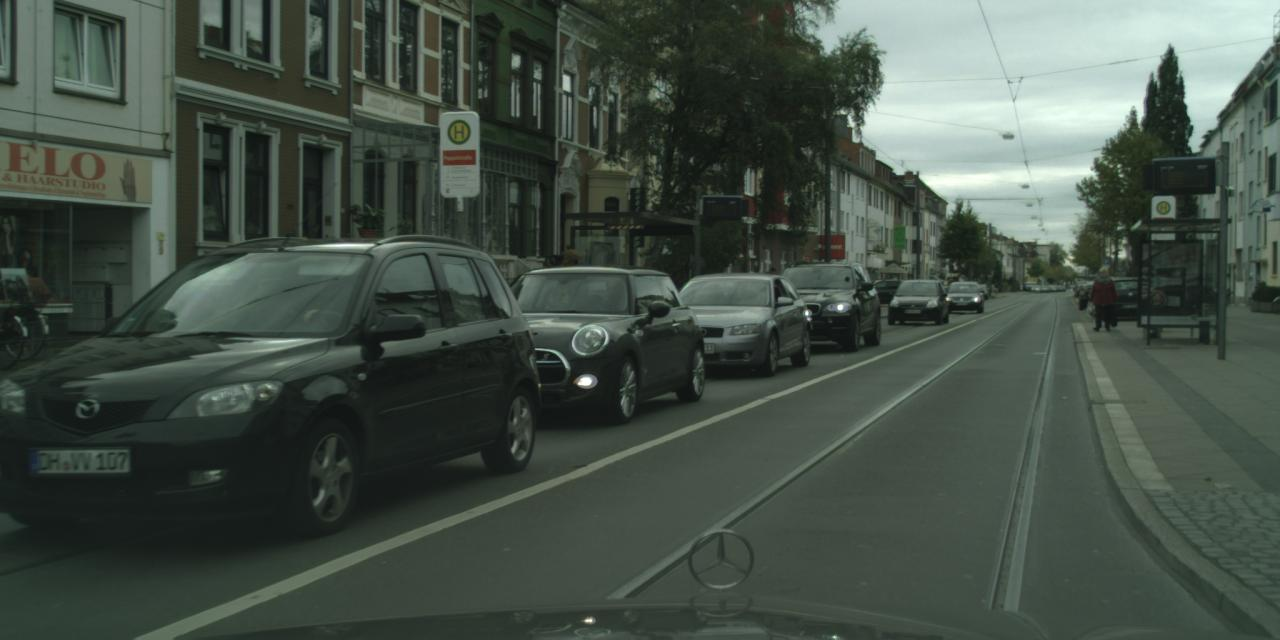ped: (542, 248, 586, 358), (1090, 265, 1116, 330), (762, 266, 780, 312)
